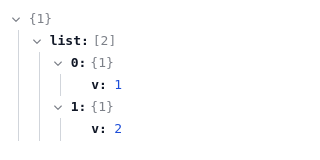
TxJsonTree — 펼치고 접기 › 배열에서 한 줄이 사라져도 펼침 상태가 옮겨 가지 않는다
첫째 줄만 접는다
Click the button named "0 접기": (58, 63) [50,55,67,72]
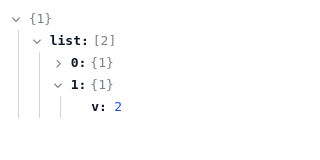
Expected: the text "v" is shown once, [91,96,107,118]
